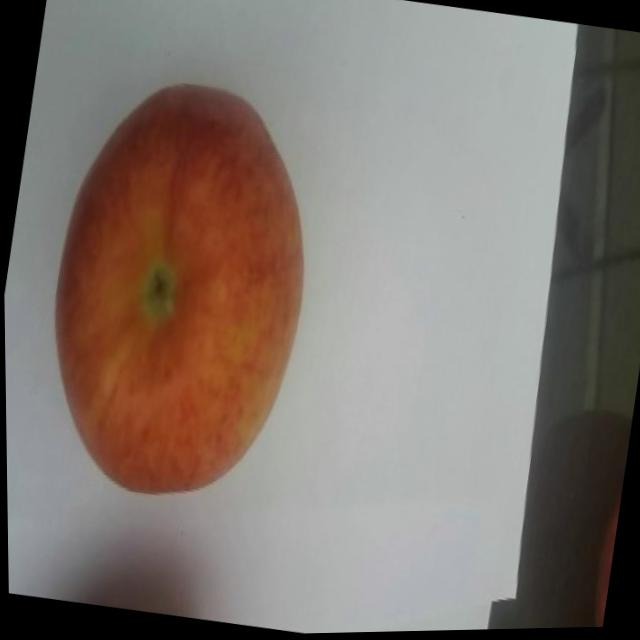Apple: (21, 66, 335, 519)
